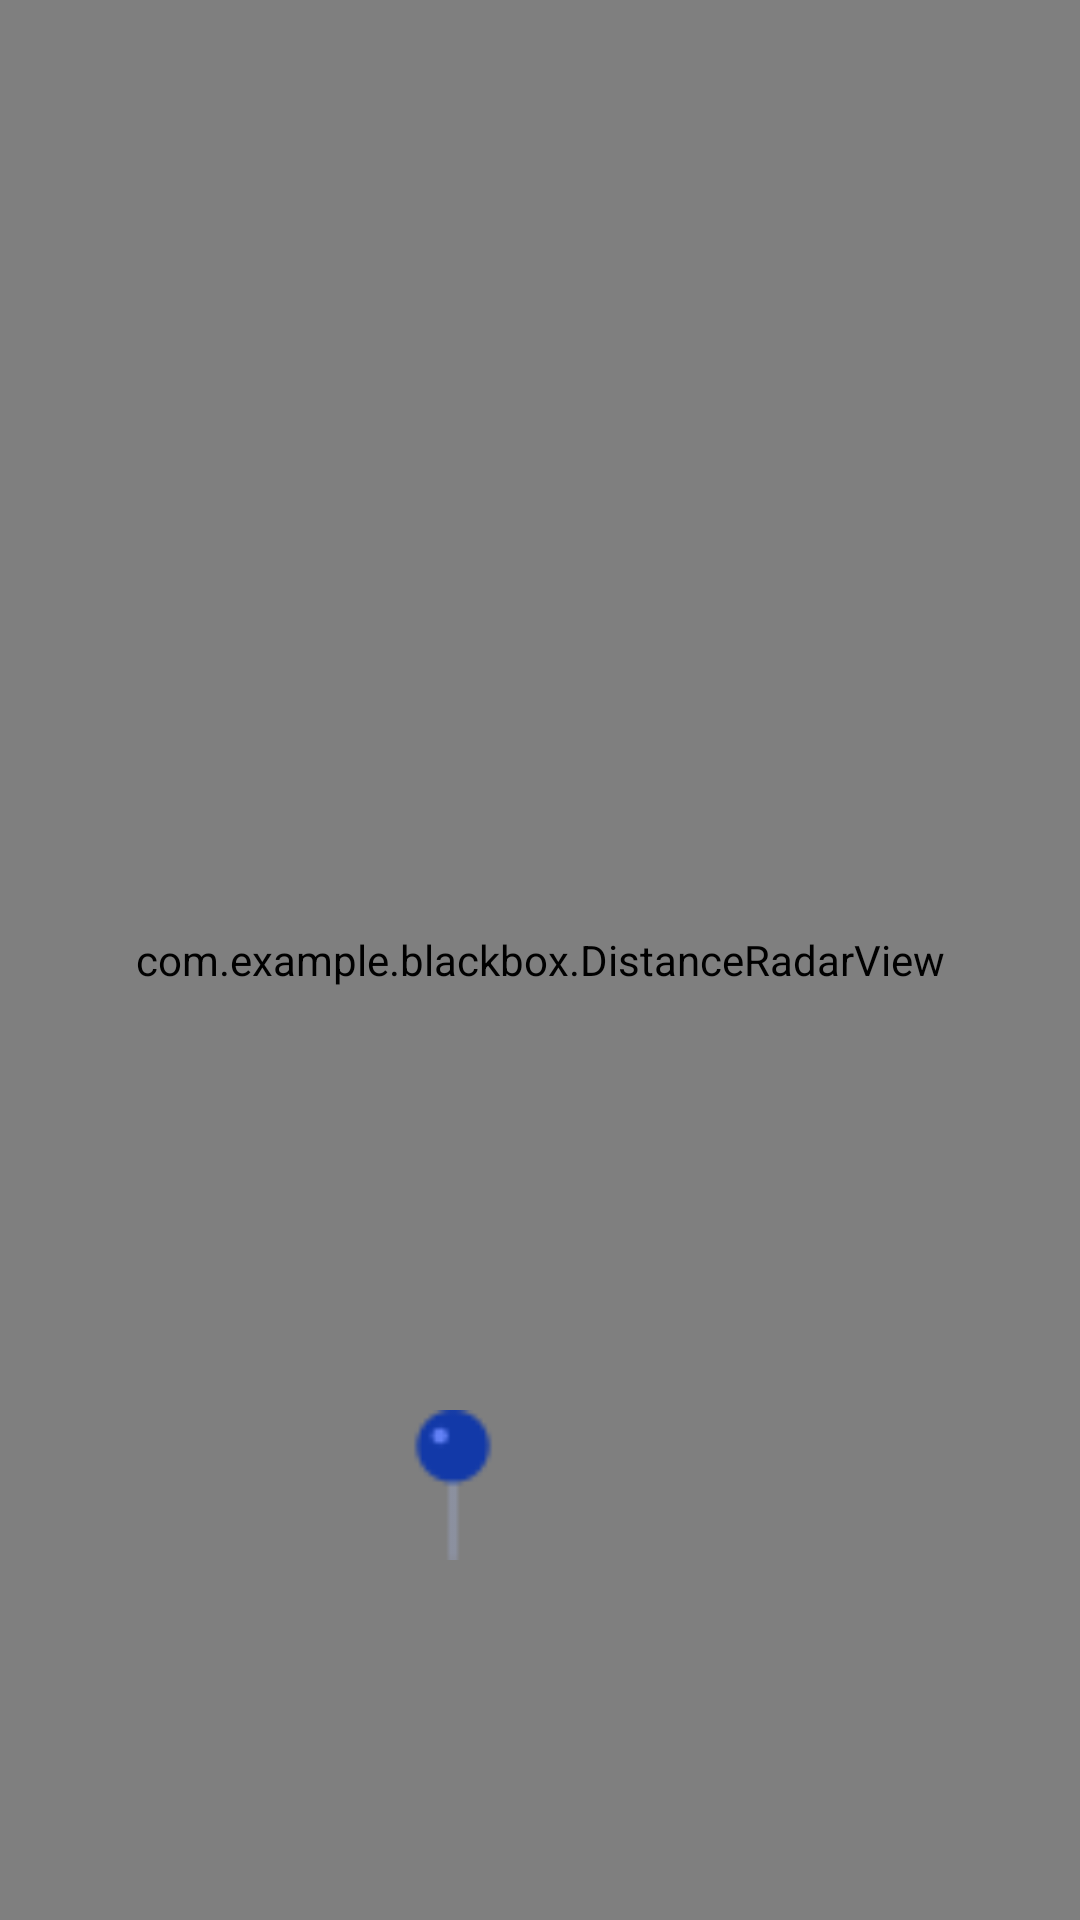

Named icons in this screenshot (1080px x 1920px) and their bounding boxes, rect(x1, y1, x2, y2):
pin: rect(415, 1410, 491, 1560)
